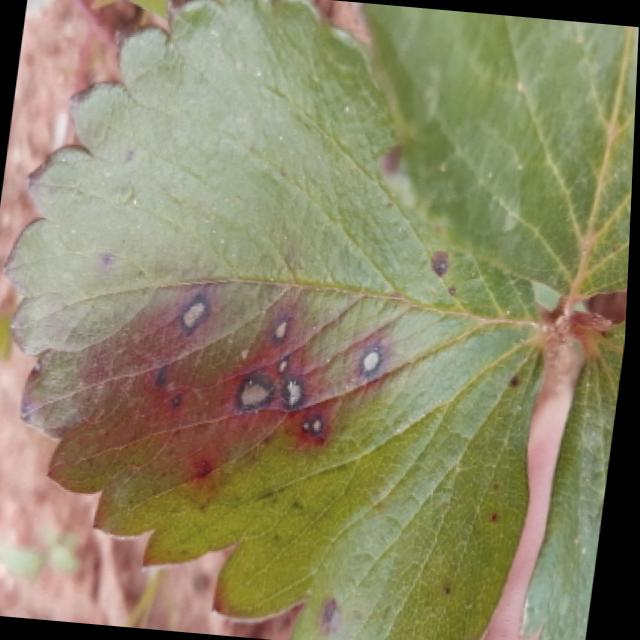Leaf Spot: (2, 0, 550, 640), (358, 2, 639, 298)
